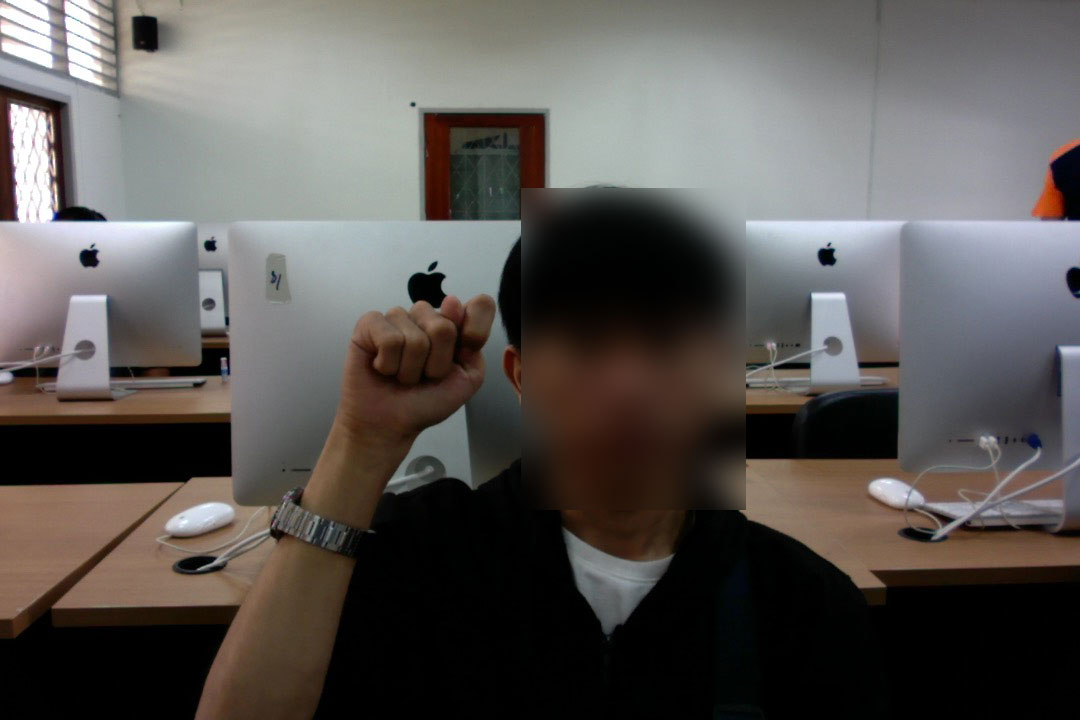tor: (332, 289, 497, 443)
